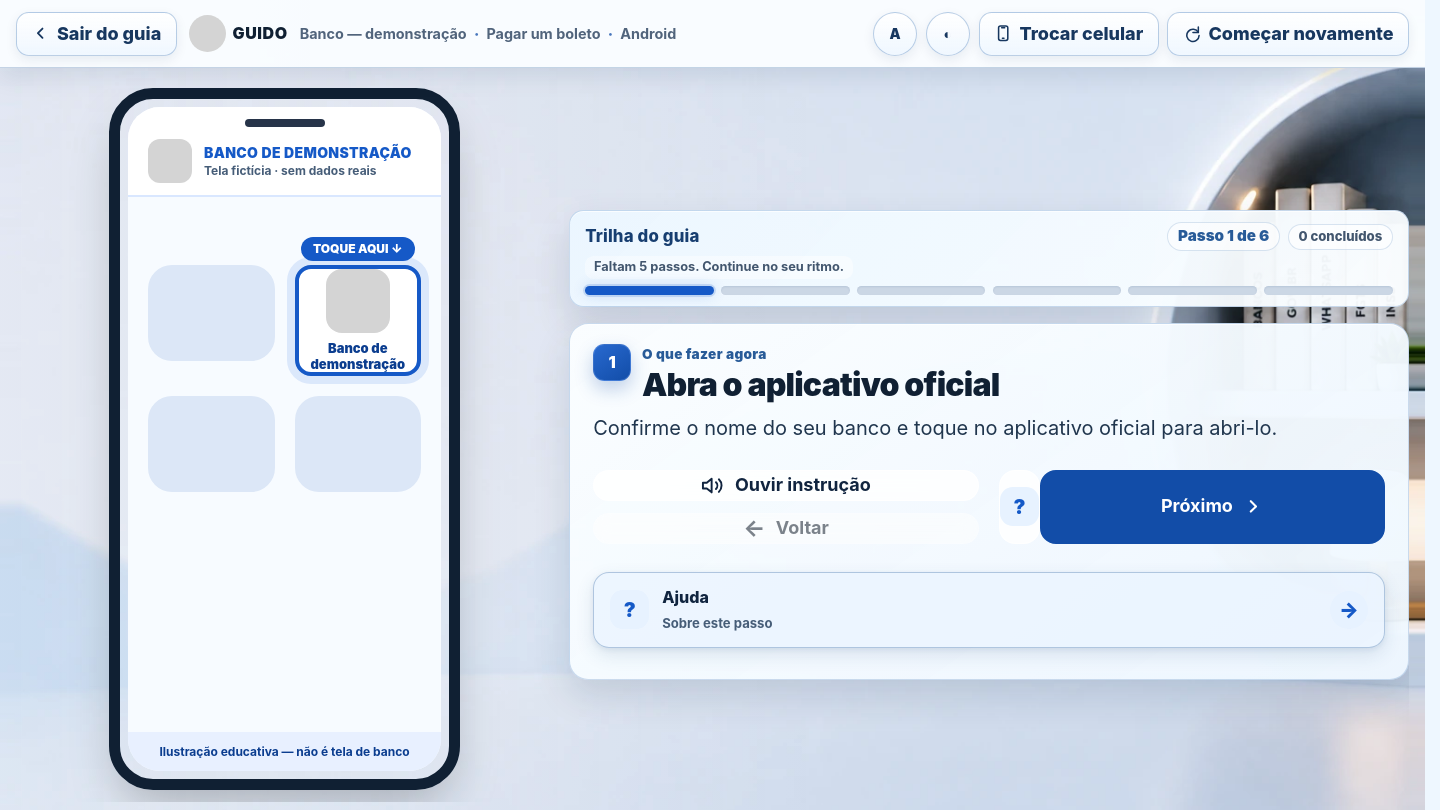
visualizador do guia › renderiza o aviso financeiro no último passo
The image size is (1440, 810).
Expected: the text "Passo 1 de 6" is shown, [1168,222,1280,251]
Click the button "Próximo": (1212, 507) [1040,470,1385,544]
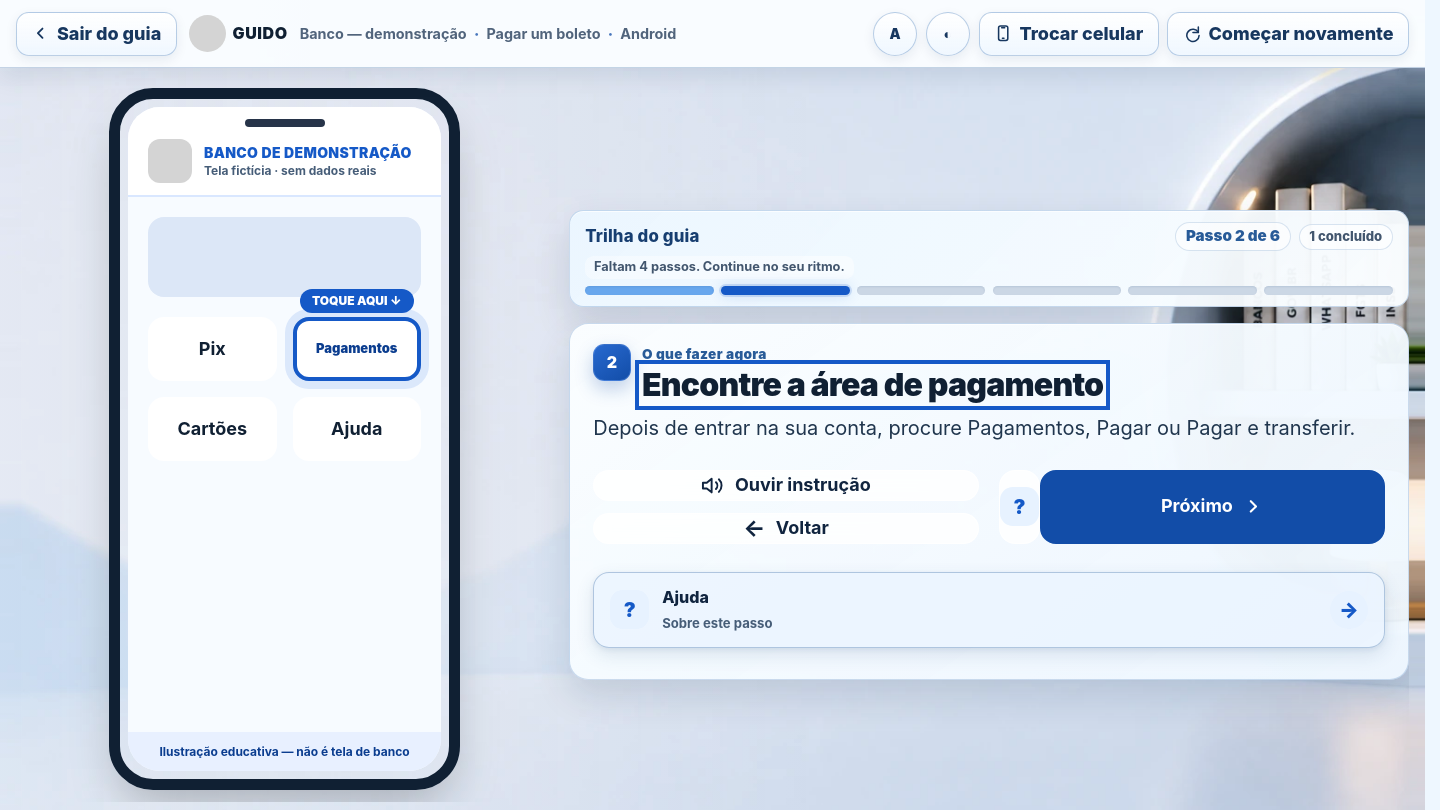
Click the button "Próximo": (1212, 507) [1040,470,1385,544]
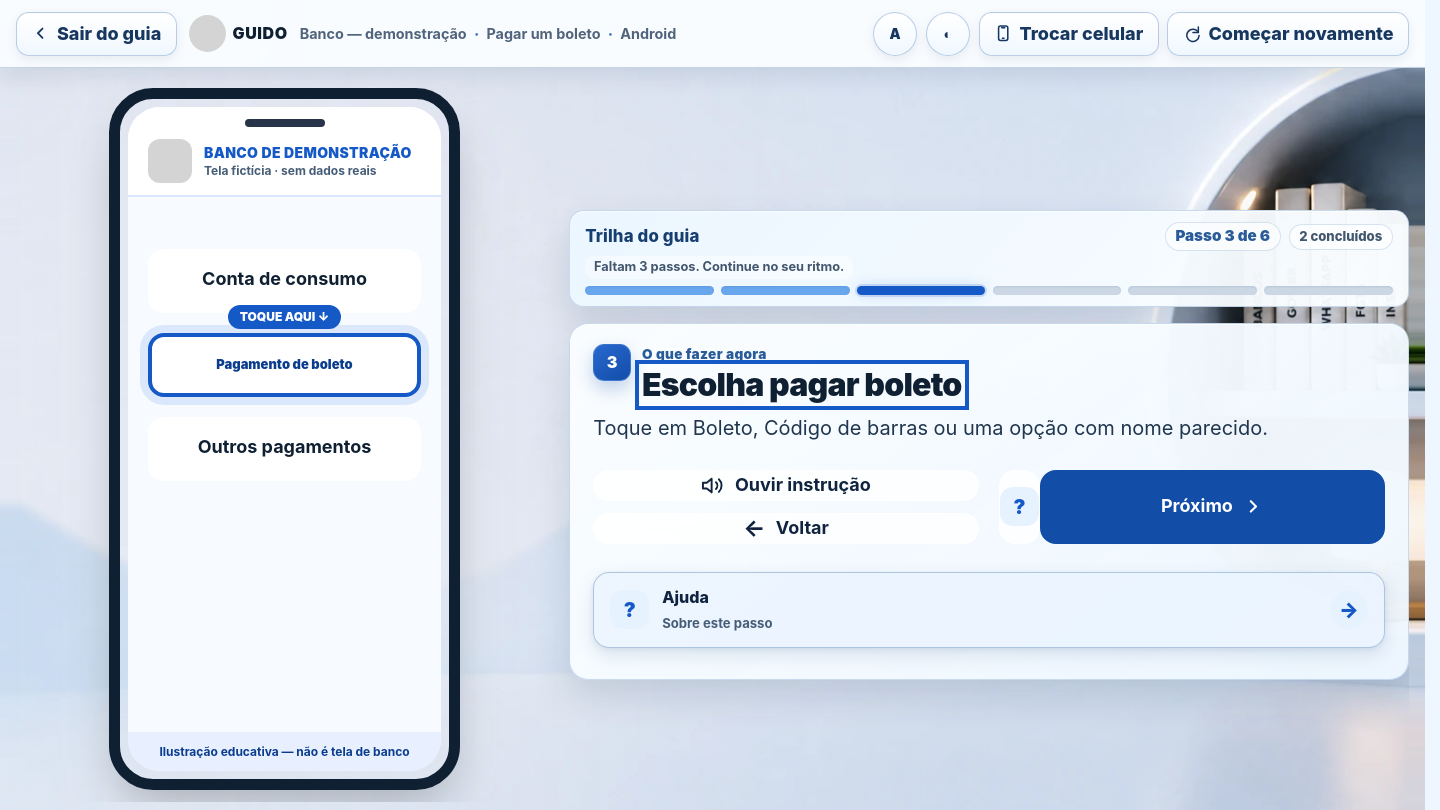
Click the button "Próximo": (1212, 507) [1040,470,1385,544]
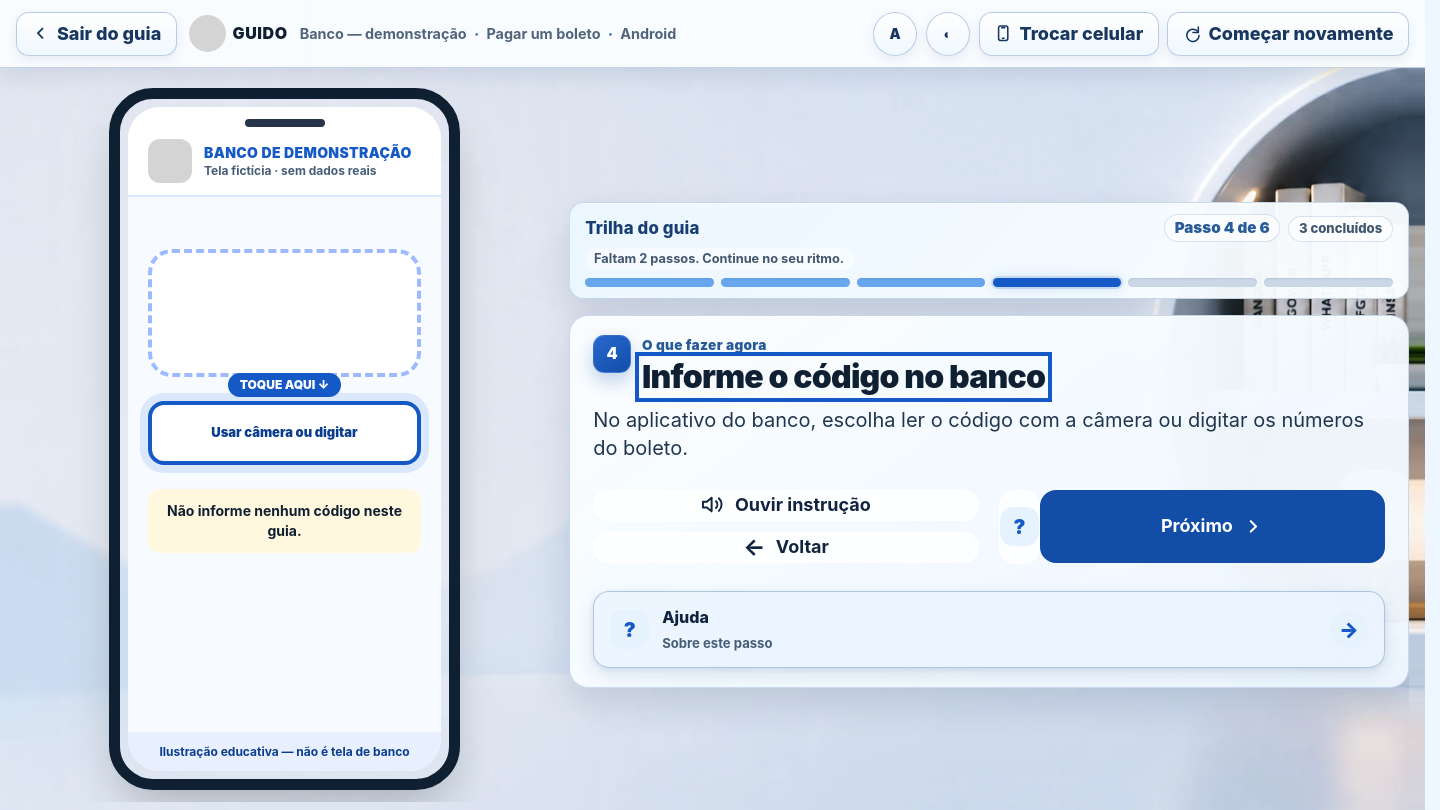
Click the button "Próximo": (1212, 526) [1040,490,1385,563]
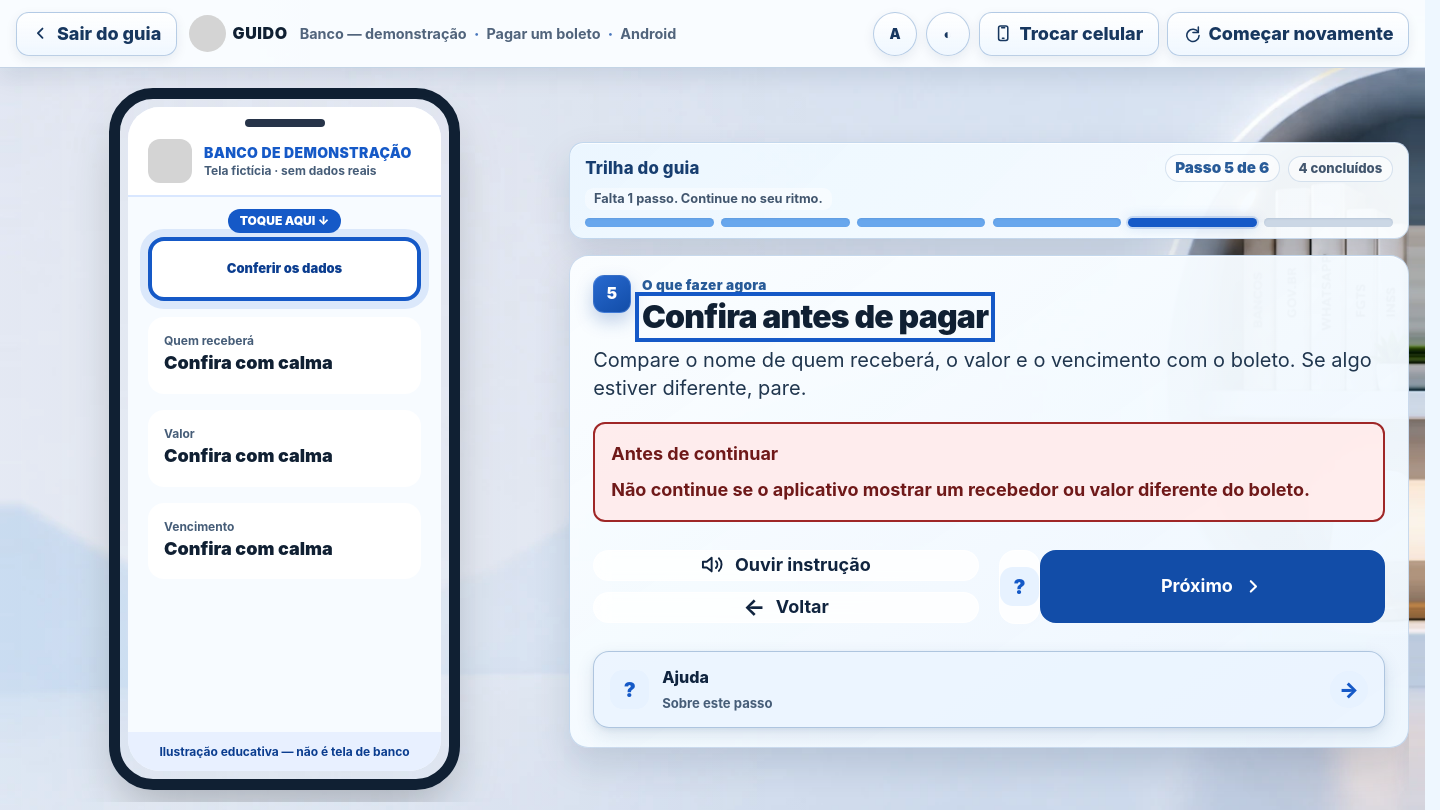
Click the button "Próximo": (1212, 586) [1040,550,1385,623]
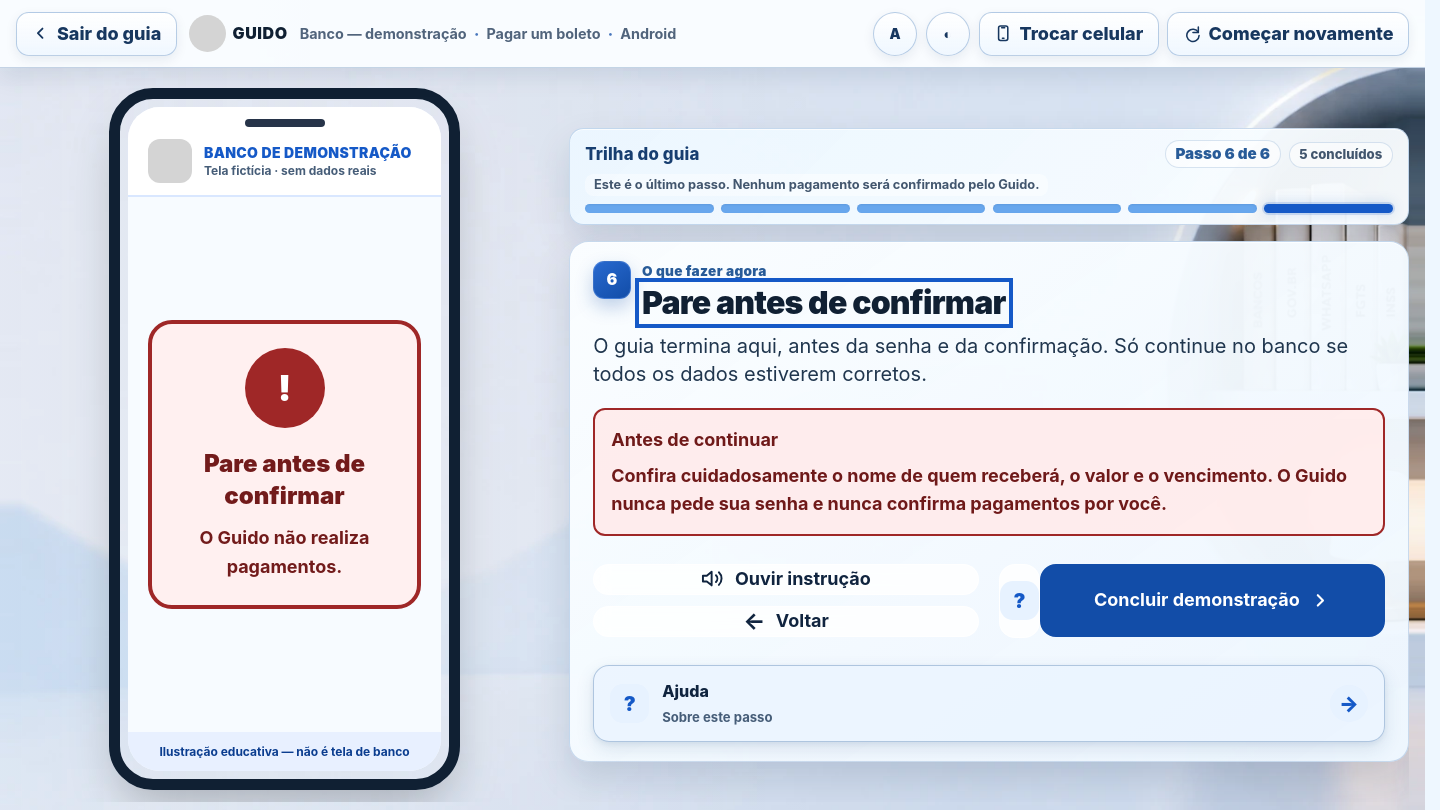
Result: the message shows "O Guido nunca pede sua senha e nunca confirma pagamentos por você." at [611,465,1347,514]
Result: the button "Concluir demonstração" is shown at [1040,564,1385,637]
